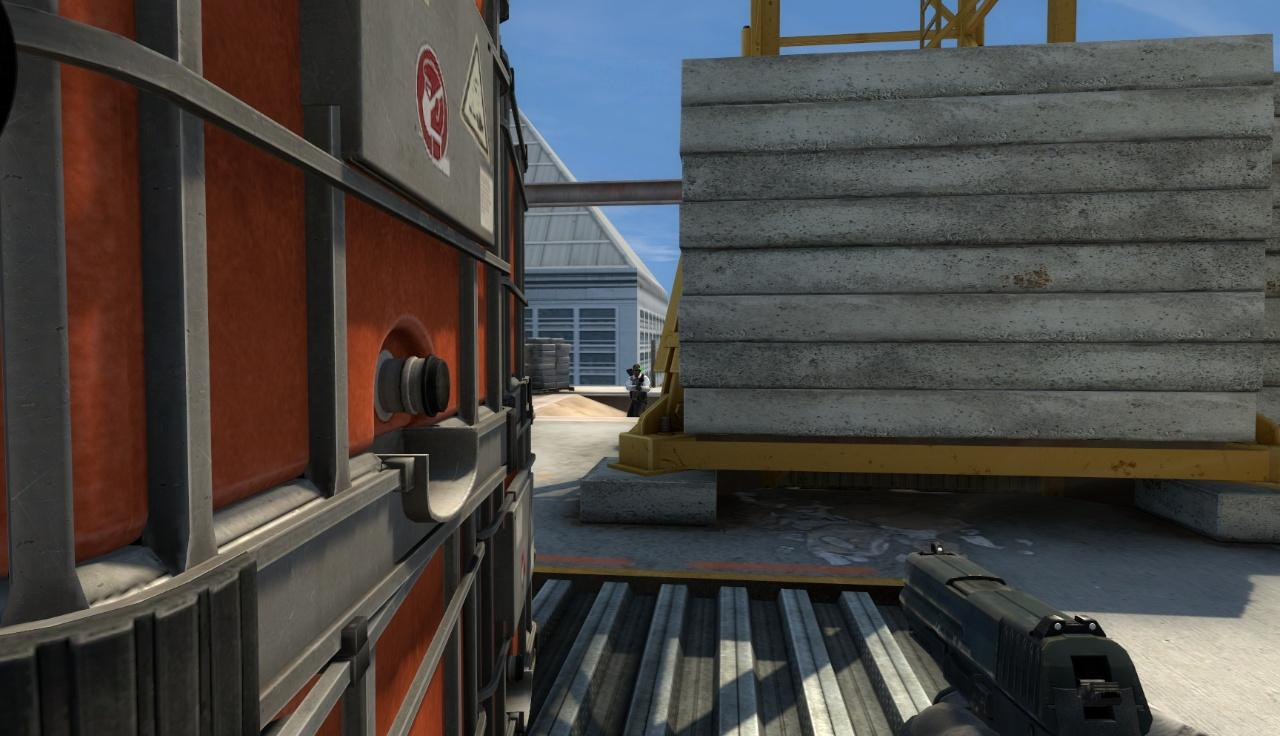pistol: (893, 539, 1154, 733)
tt: (623, 363, 650, 417)
tthead: (632, 364, 642, 376)
